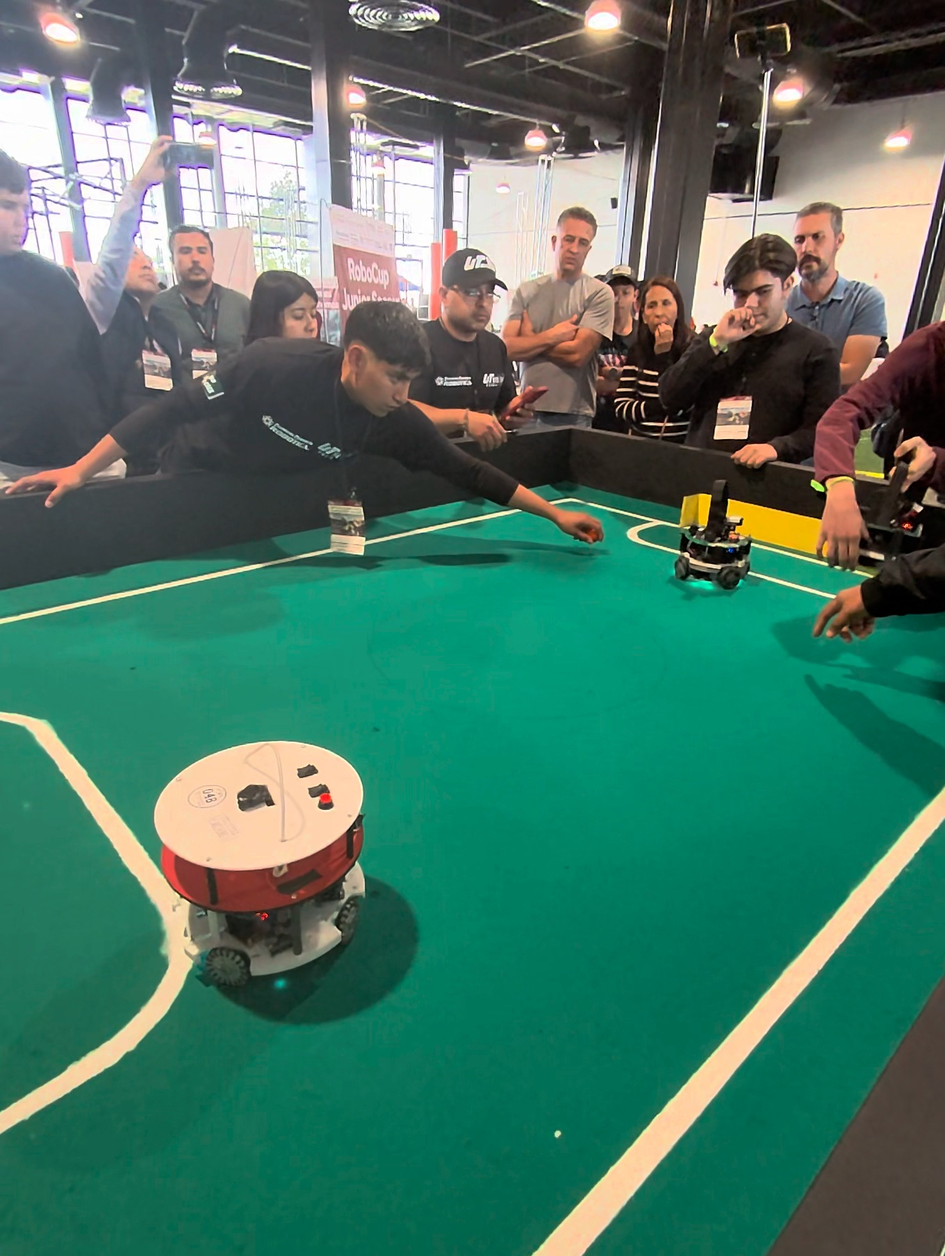Robot: (142, 711, 374, 1027), (674, 481, 759, 605)
